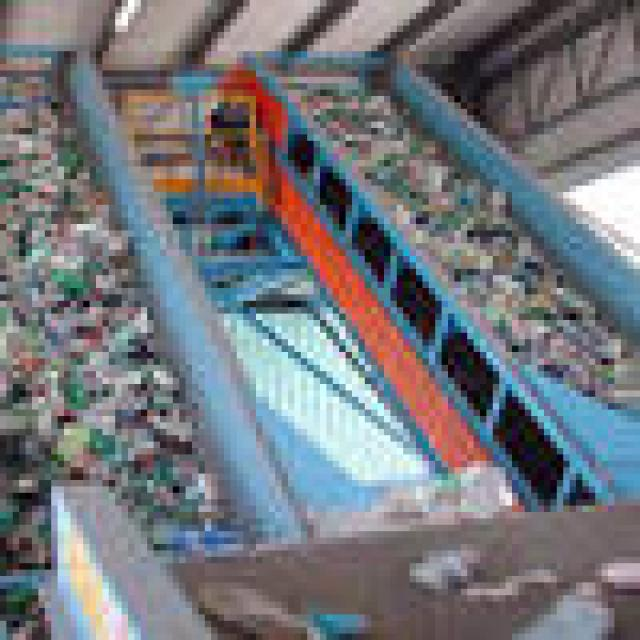heap: (14, 219, 148, 488)
